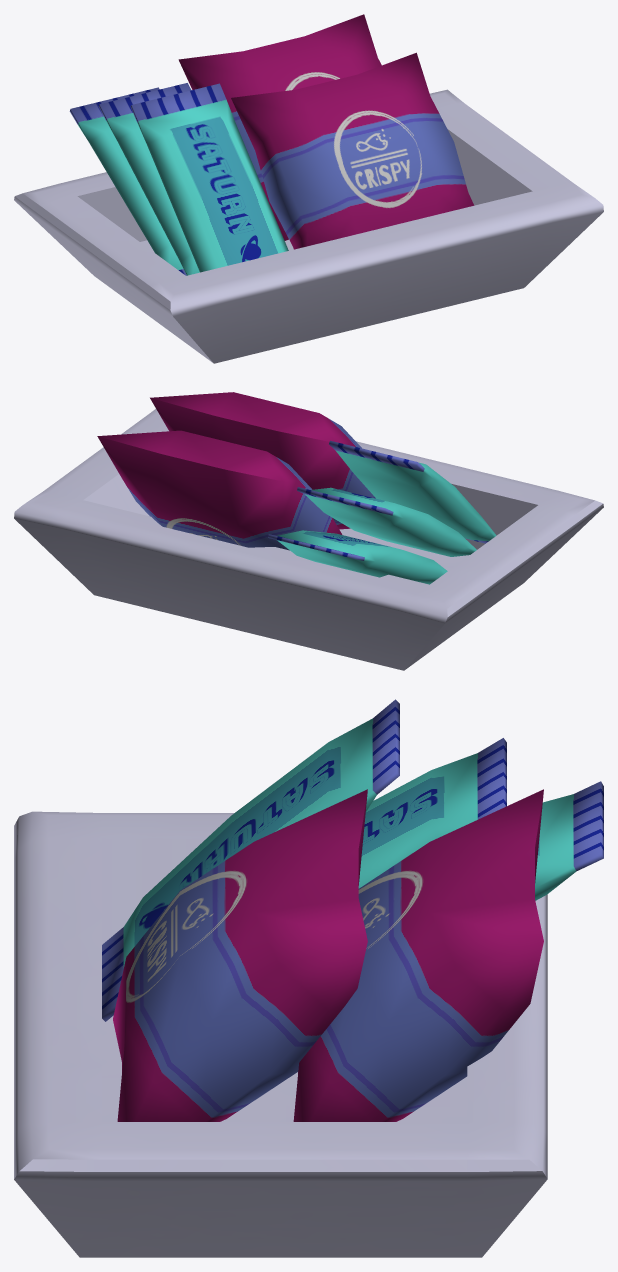
Rendered from asset_CounterBasket_Cluttered.fbx.
3 renders of one model, top to bottom at view 1: azimuth 30°, elevation 25°; view 2: azimuth 150°, elevation 25°; view 3: azimuth 270°, elevation 25°, orthographic. The views are drawn at different scales.
Parts seen in each view (by area): view 1: asset_CounterBasket, chips1, chocolateA2, chips, chocolateA1, chocolateA; view 2: asset_CounterBasket, chips, chips1, chocolateA2, chocolateA1, chocolateA; view 3: asset_CounterBasket, chips1, chips, chocolateA2, chocolateA1, chocolateA.
Part boxes in pixels (x1,y1,x2,y2): asset_CounterBasket: (14,89,603,363); chips1: (231,52,474,249); chocolateA2: (130,83,288,272); chips: (178,14,381,240); chocolateA1: (98,83,199,275); chocolateA: (69,87,186,275); asset_CounterBasket: (14,409,603,670); chips: (97,430,342,550); chips1: (150,392,375,529); chocolateA2: (329,440,496,543); chocolateA1: (297,487,476,556); chocolateA: (268,530,447,584); asset_CounterBasket: (14,811,547,1257); chips1: (113,789,367,1121); chips: (293,789,543,1121); chocolateA2: (102,699,399,1021); chocolateA1: (358,738,506,888); chocolateA: (535,781,603,900).
Bounding box in the file's own units: 54.91 × 22.65 × 38.59.
